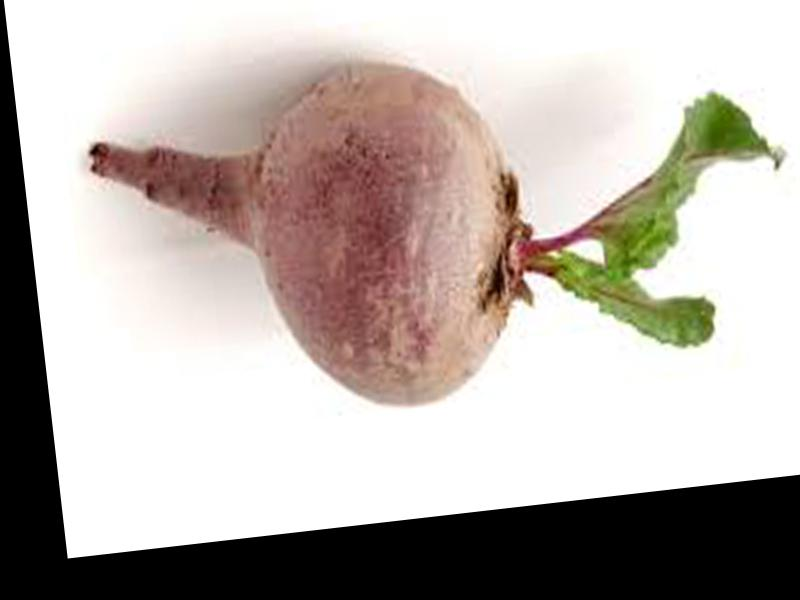Beet: (87, 20, 800, 436)
